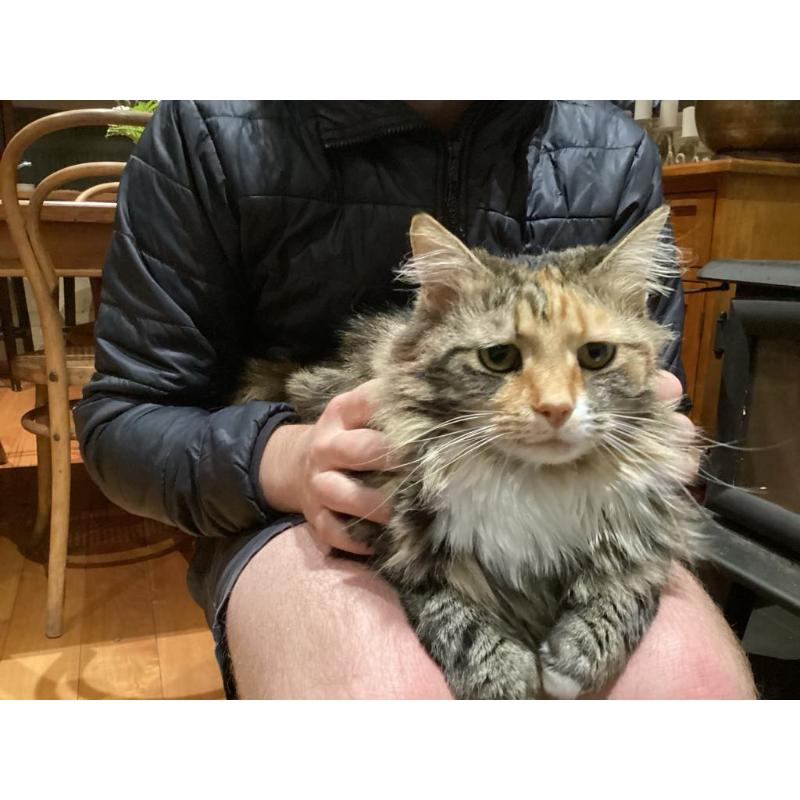red: (318, 202, 706, 699)
